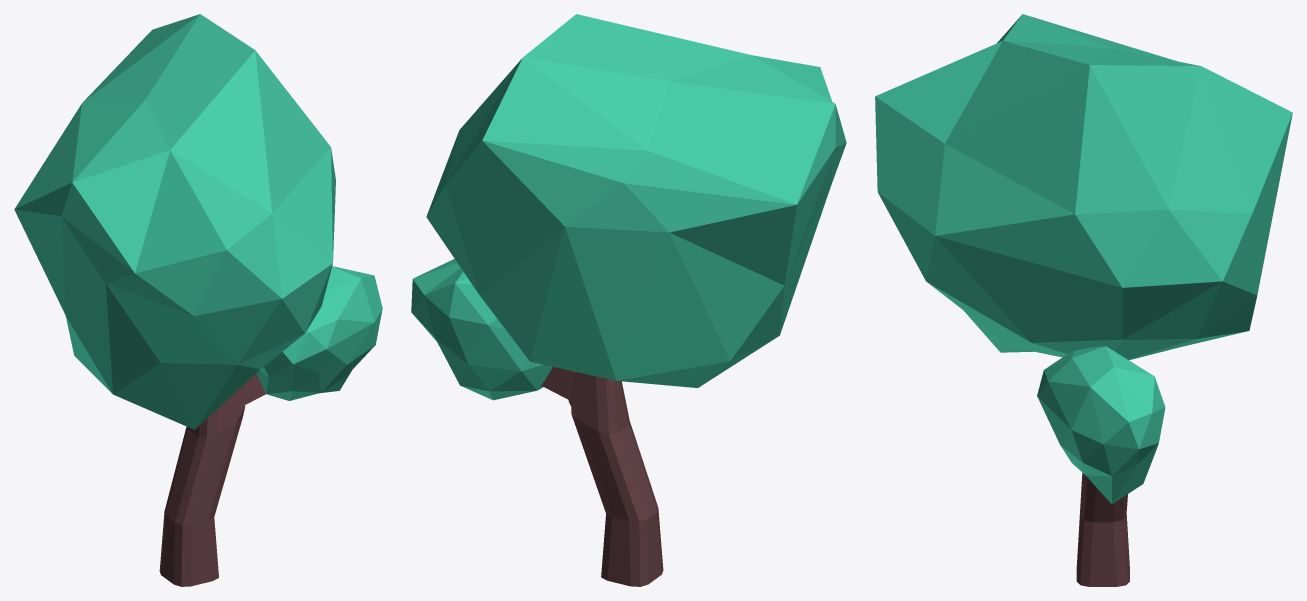
Rendered from bilun - tree 1.fbx.
3 views of the same model, side by side, from view 1: azimuth 30°, elevation 25°; view 2: azimuth 150°, elevation 25°; view 3: azimuth 270°, elevation 25° (orthographic). The views are drawn at different scales.
Parts seen in each view (by area): view 1: Icosphere.001; view 2: Icosphere.001; view 3: Icosphere.001.
Boxes of the visible parts, box(x1,y1,x2,y2) form: Icosphere.001: box(14, 14, 382, 586); Icosphere.001: box(411, 14, 846, 586); Icosphere.001: box(875, 14, 1292, 586).
Size of the model in its own units: 585 by 792 by 554.
